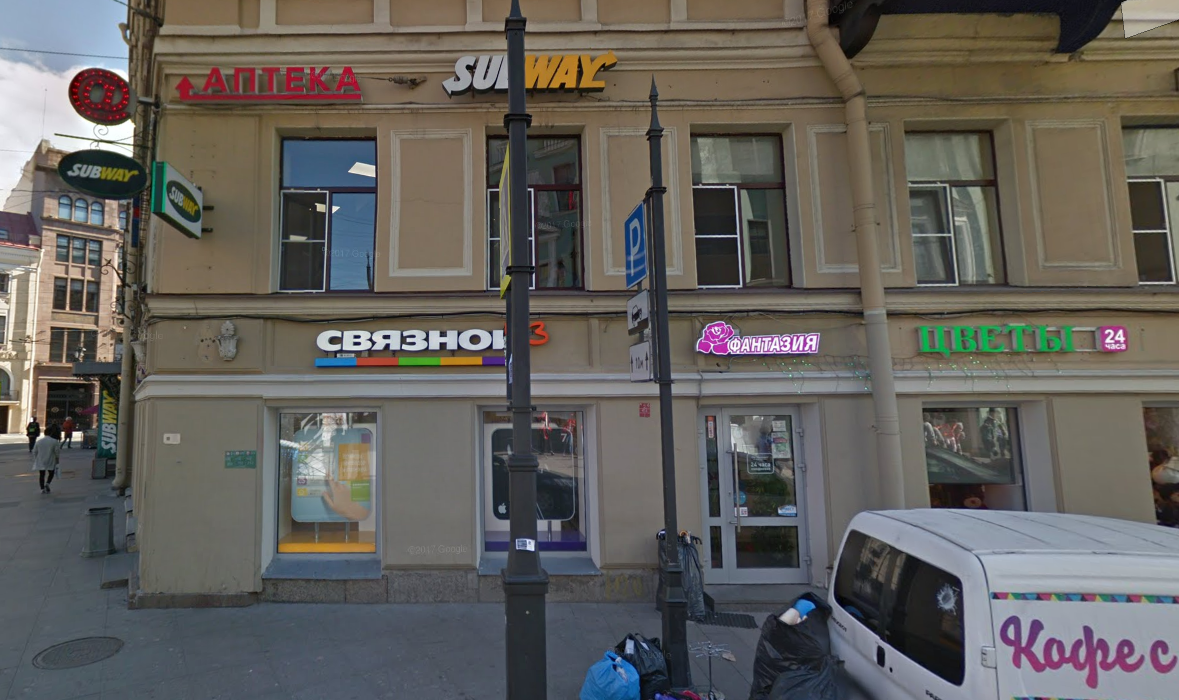cantilever: (50, 128, 158, 205), (150, 155, 223, 243), (66, 60, 143, 125)
door: (699, 398, 810, 588)
signboard: (308, 318, 555, 364), (432, 42, 622, 100), (174, 56, 373, 110), (913, 315, 1135, 359), (688, 313, 831, 366)
window: (904, 127, 1011, 289), (268, 410, 377, 568), (689, 127, 793, 288), (481, 409, 587, 563), (490, 134, 587, 290), (287, 131, 378, 293), (922, 404, 1040, 509), (1122, 119, 1179, 283)
